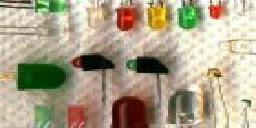LED: (14, 57, 71, 96), (165, 90, 208, 128), (110, 94, 149, 128), (114, 1, 140, 33), (11, 1, 74, 13), (84, 2, 108, 30), (145, 1, 167, 31), (175, 2, 197, 30), (206, 3, 225, 21)
